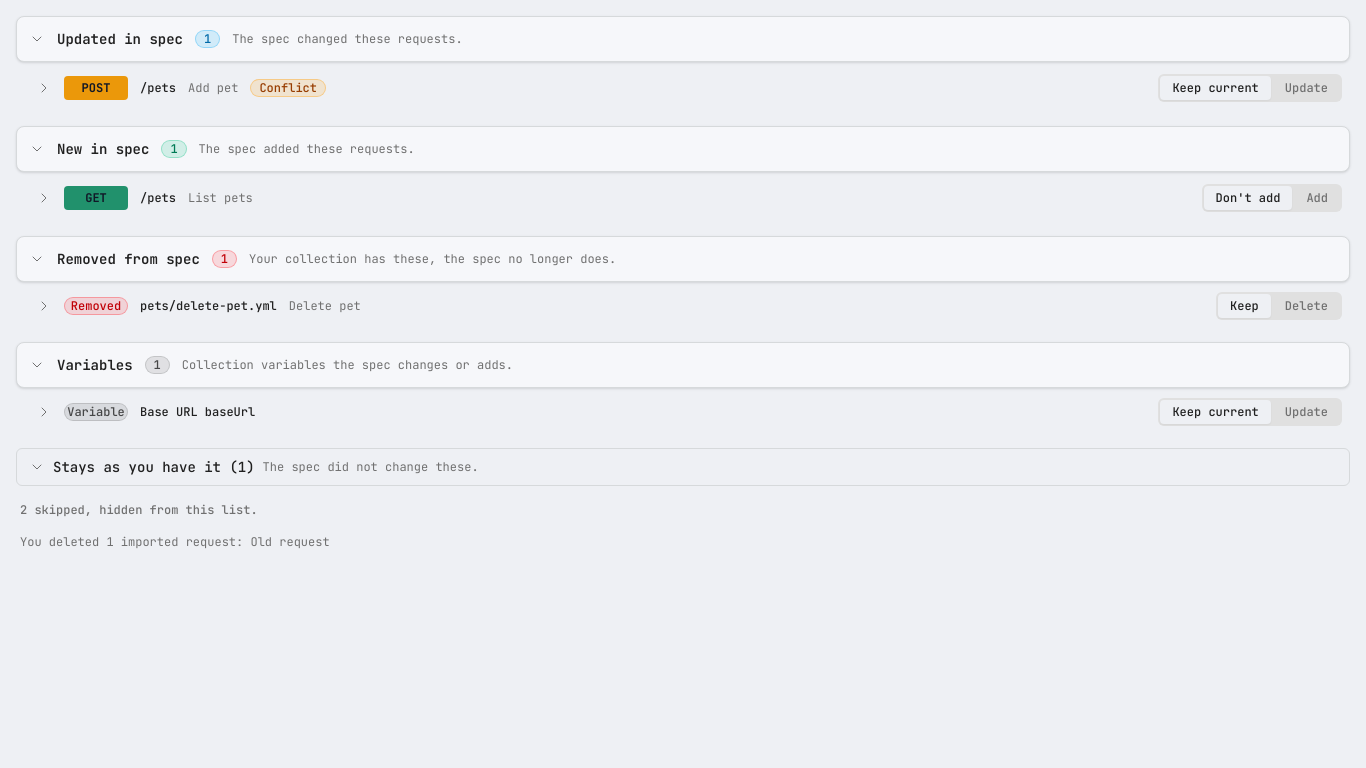
OpenApiSyncList › keeps the unchanged section collapsed and lists variables and notes
Expected: the text "Same one" is not shown
Click the text "Stays as you have it (1)": {"x": 154, "y": 467} x1=53 y1=457 x2=255 y2=477
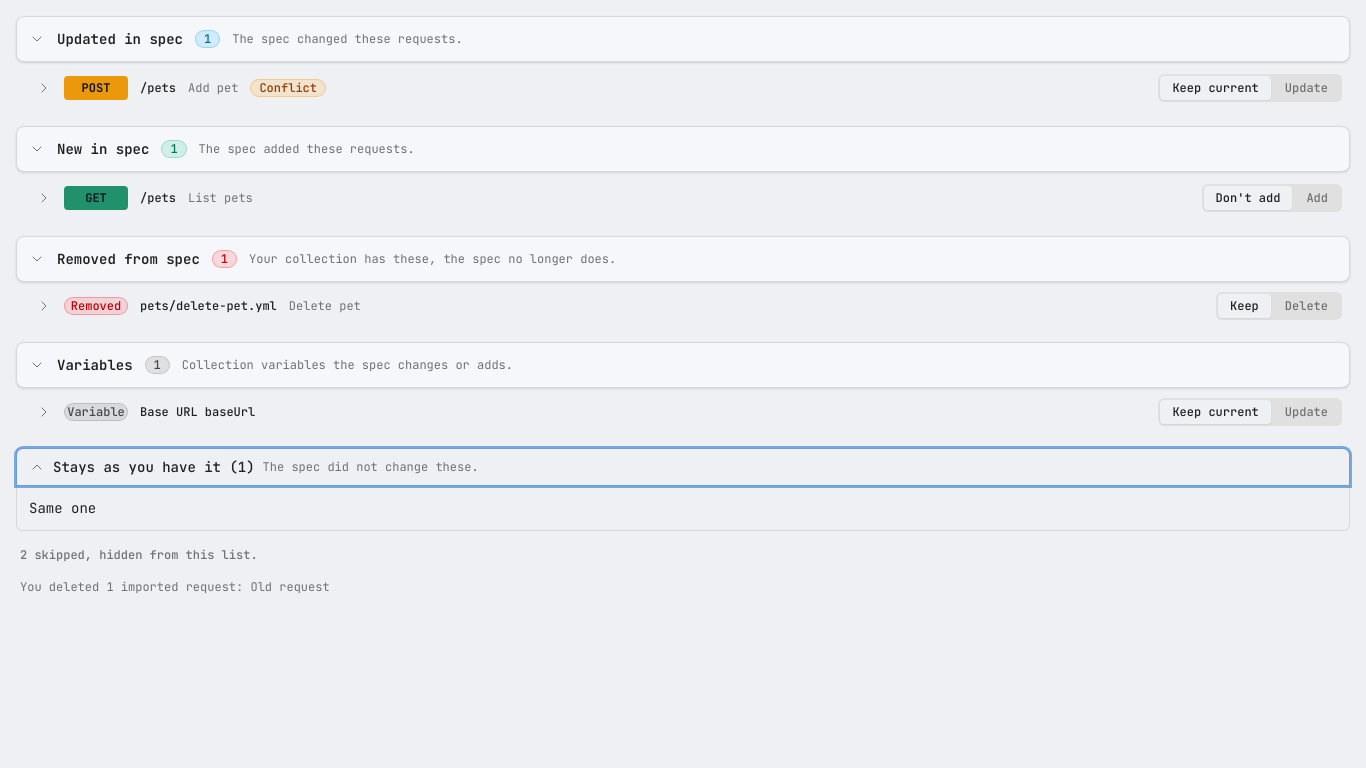
Expected: the heading "Variables" is shown, x1=57 y1=355 x2=133 y2=375
Result: the list item "Same one" is shown at x1=29 y1=499 x2=96 y2=517
